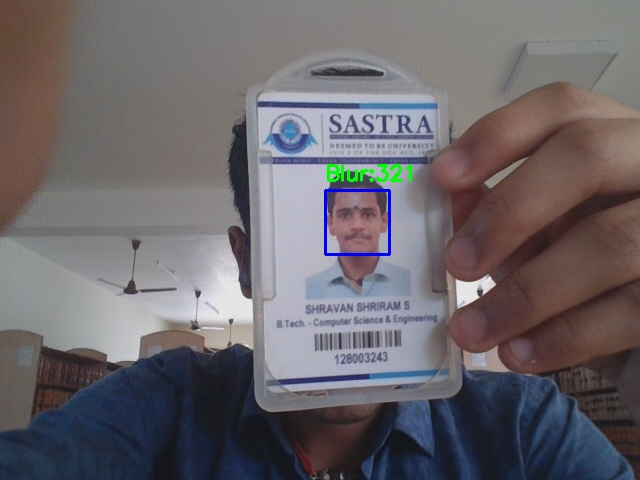fake: (325, 190, 389, 254)
